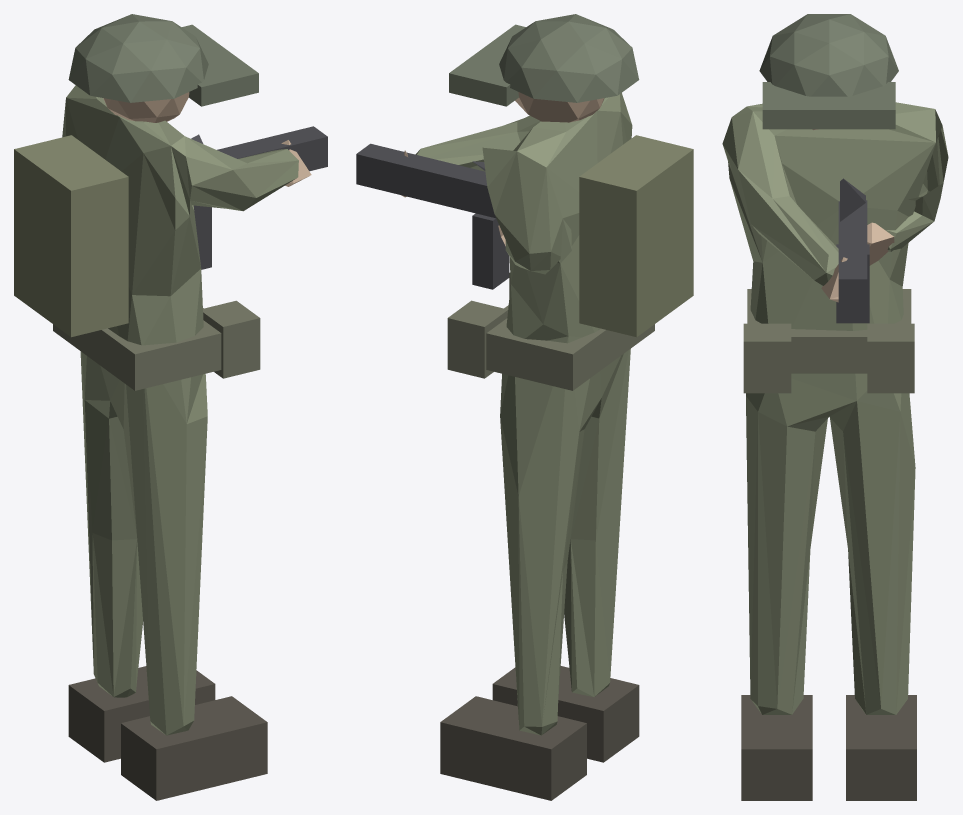
The model's file is trooper_fr.lod2.glb.
The picture shows the model from 3 angles, left to right: view 1: azimuth 30°, elevation 25°; view 2: azimuth 150°, elevation 25°; view 3: azimuth 270°, elevation 25°; orthographic projection.
Bounding box in the file's own units: 0.705 × 1.72 × 0.4759.
